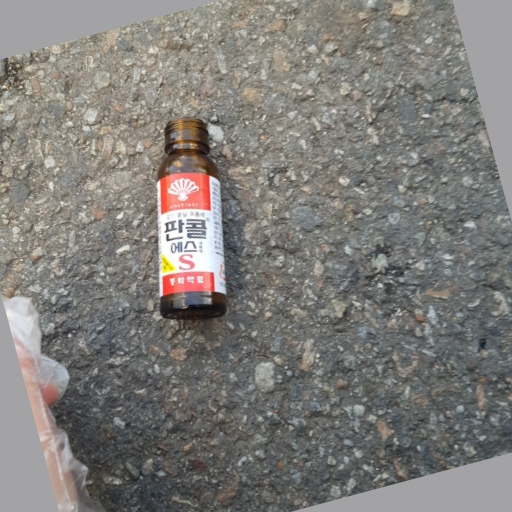Glass_3: (150, 115, 234, 321)
